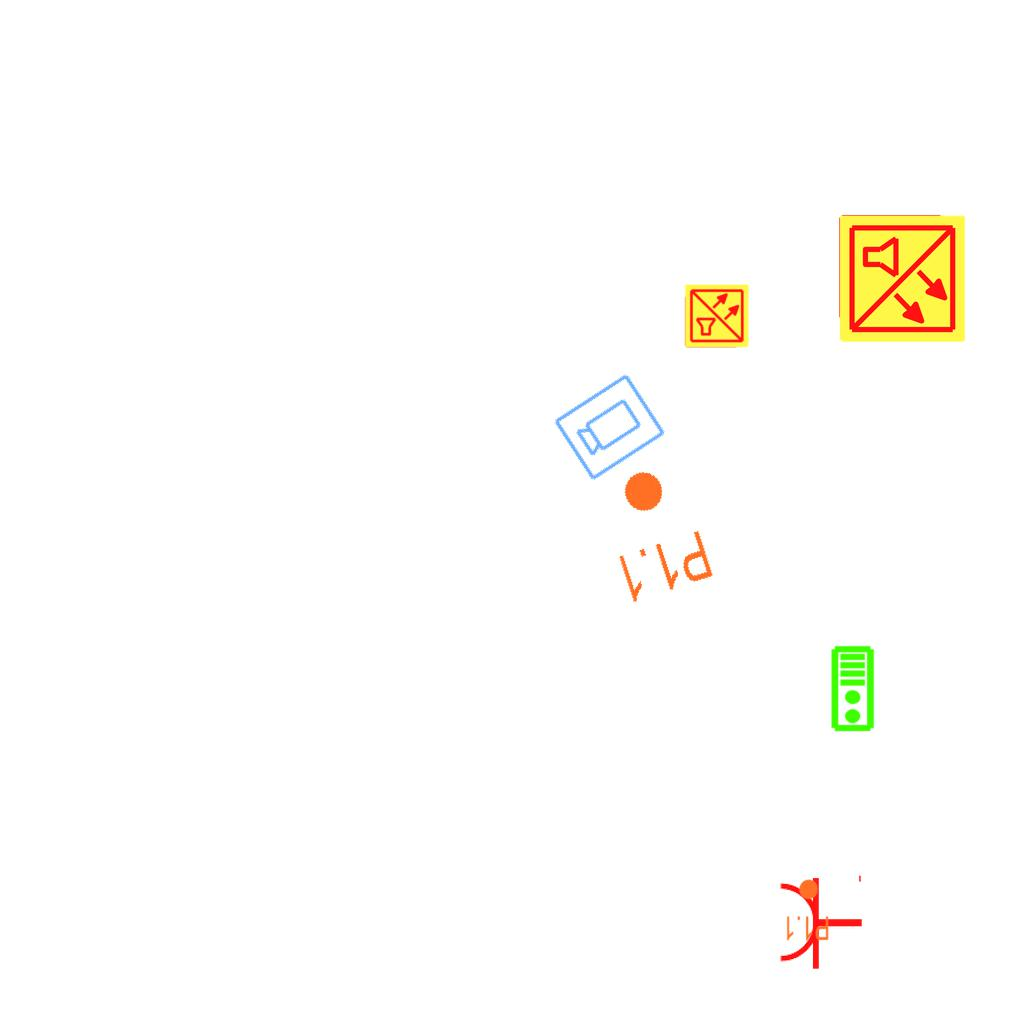Downlight_LED_Einbauleuchten_Flur: (589, 456, 718, 608), (784, 878, 830, 942)
Gegensprechanlage_mit_Video: (830, 645, 877, 733)
KFO_Kamera_mit_Festobjektiv: (550, 369, 669, 484)
OKW_Multisensormelder_(Kombination_optischer_Rauch-Kahlenmonoxid_Waerme-Melder): (836, 213, 968, 345), (684, 283, 750, 349)
Schukosteckdose_einfach: (777, 871, 864, 971)
